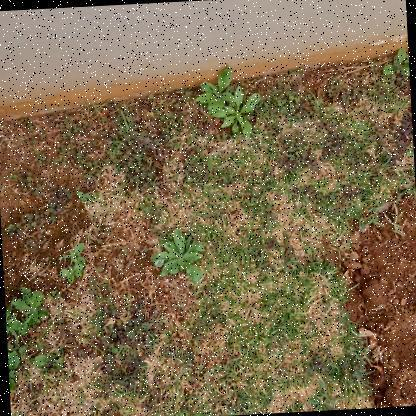Weeds: (147, 228, 208, 284), (208, 83, 262, 143), (195, 65, 236, 113), (14, 290, 46, 339), (374, 46, 409, 81), (60, 240, 89, 267), (7, 348, 22, 391), (58, 263, 83, 284), (5, 301, 18, 340), (76, 186, 94, 205)
